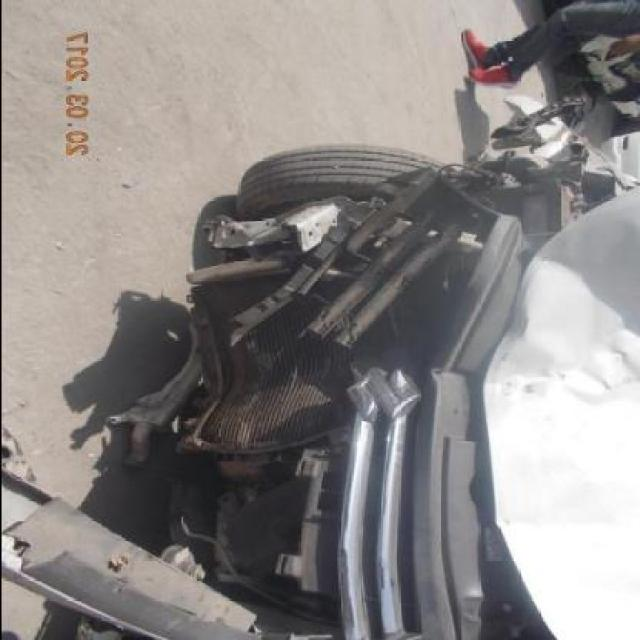damage: (132, 103, 640, 640), (513, 204, 634, 411)
